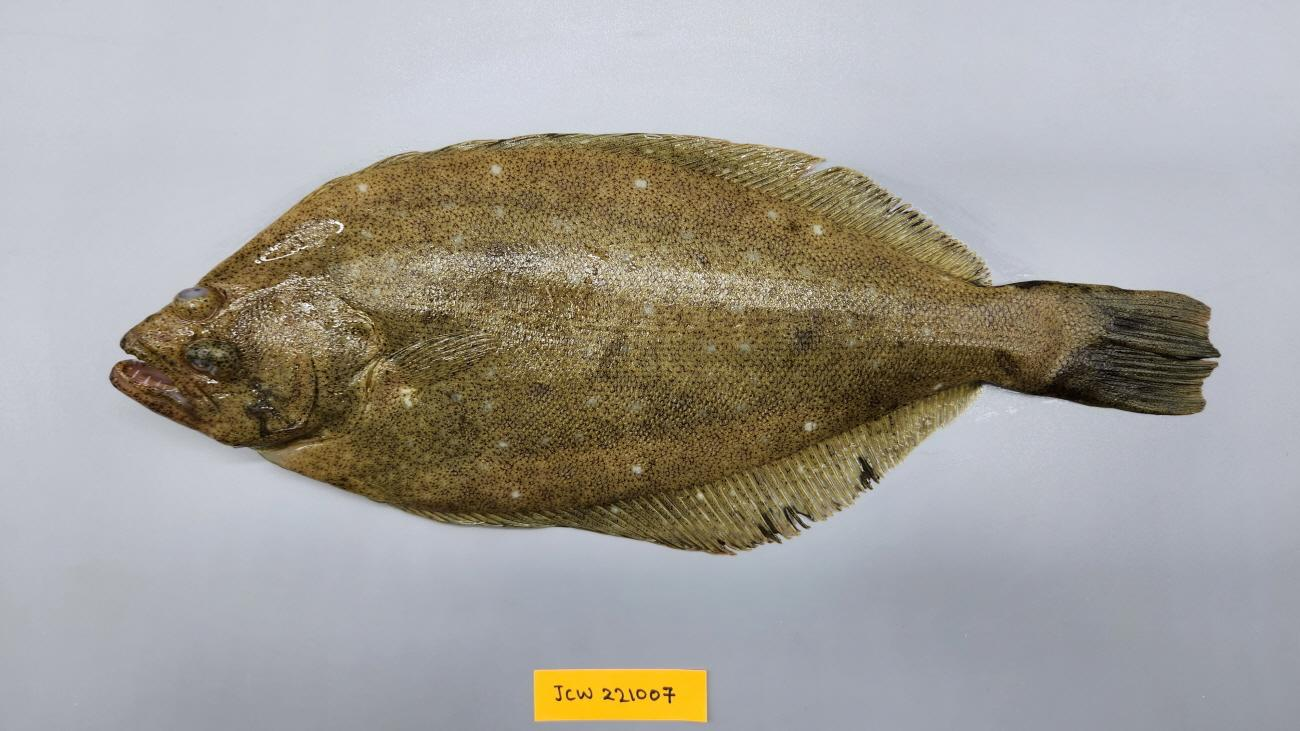POOUN: (108, 133, 1224, 555)
